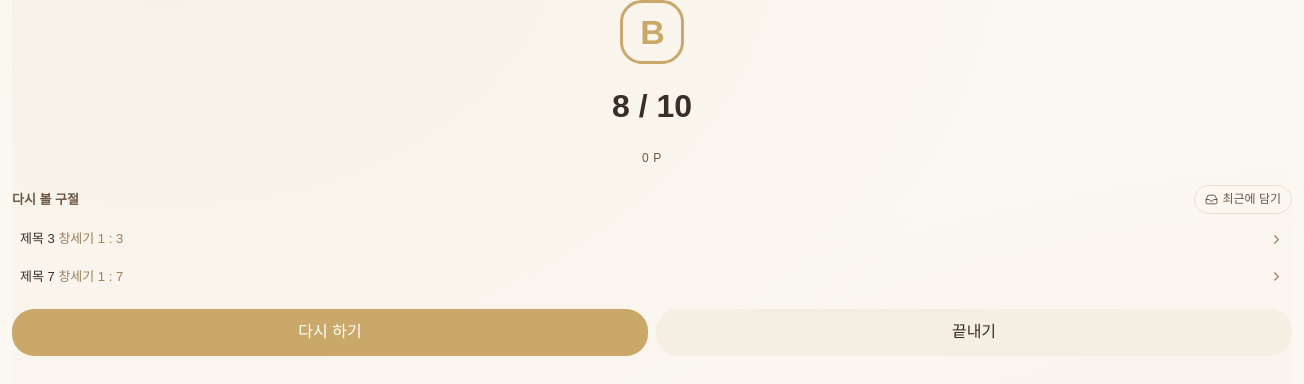
Test: QuizSummary — 최근에 담기 › says it is done and will not file the same verses twice
This screenshot has width=1304, height=384.
Click the button "최근에 담기" at (1243, 200), box [1194, 185, 1292, 214]
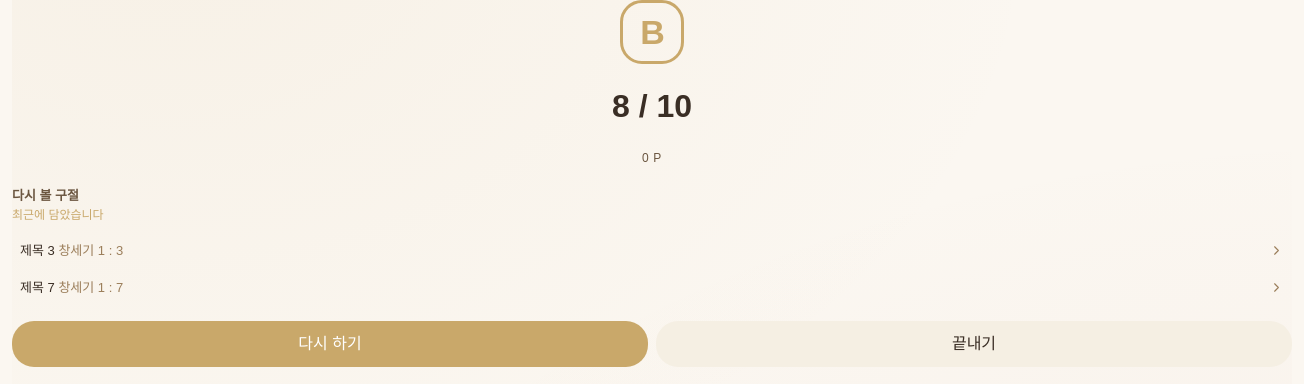
Expected: the text "최근에 담았습니다" is shown, [12, 208, 104, 222]
Expected: the button "최근에 담기" is gone
